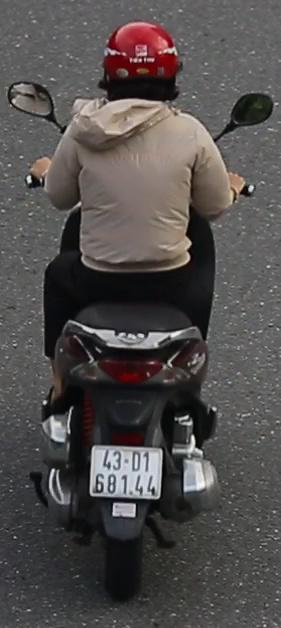LP: (89, 438, 163, 507)
helmet: (90, 14, 187, 123)
